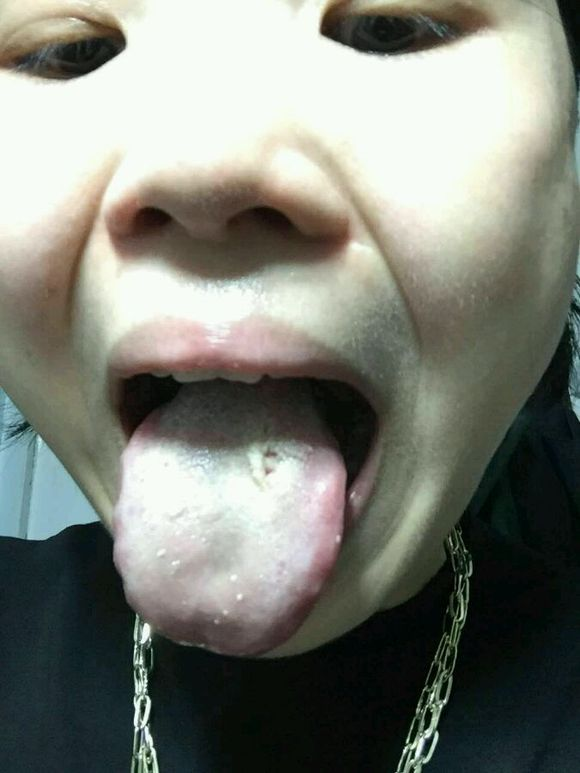baitaishe: (113, 381, 347, 657)
chihenshe: (114, 453, 131, 607)
liewenshe: (242, 430, 294, 493)
